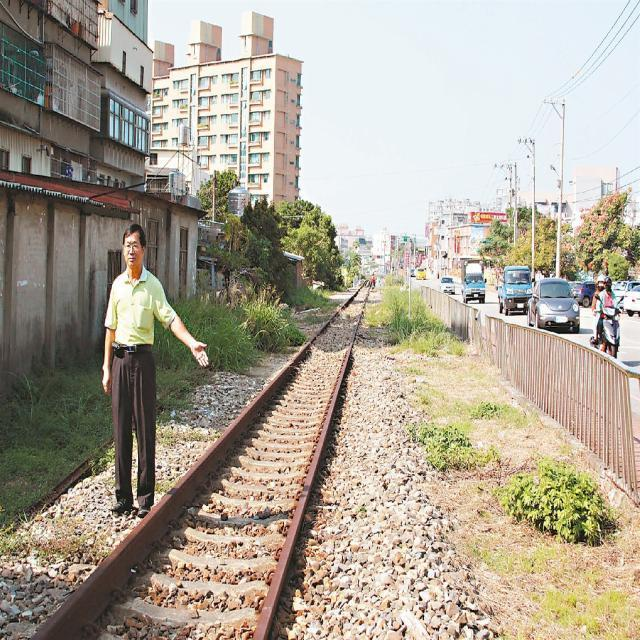rail: (1, 279, 376, 640)
